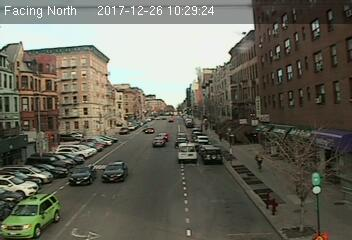car: (1, 191, 62, 238), (100, 161, 130, 182), (70, 165, 96, 185), (201, 147, 222, 164), (152, 136, 165, 146)
truck: (177, 142, 199, 165)
